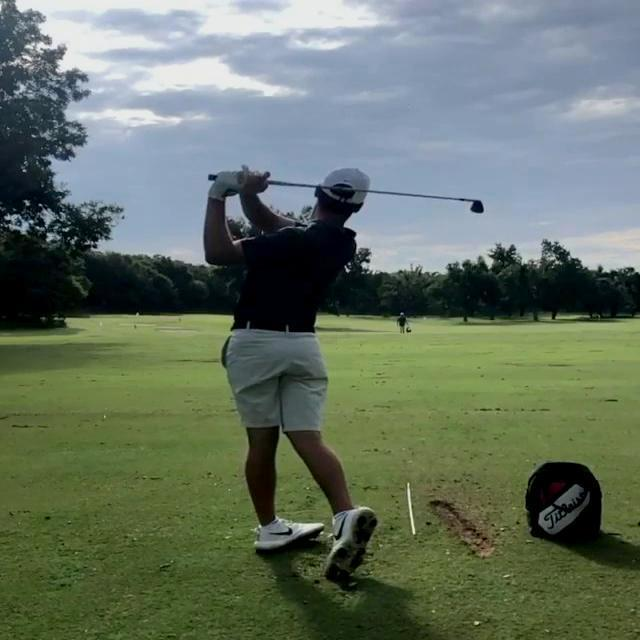ClubHead: (469, 200, 486, 214)
